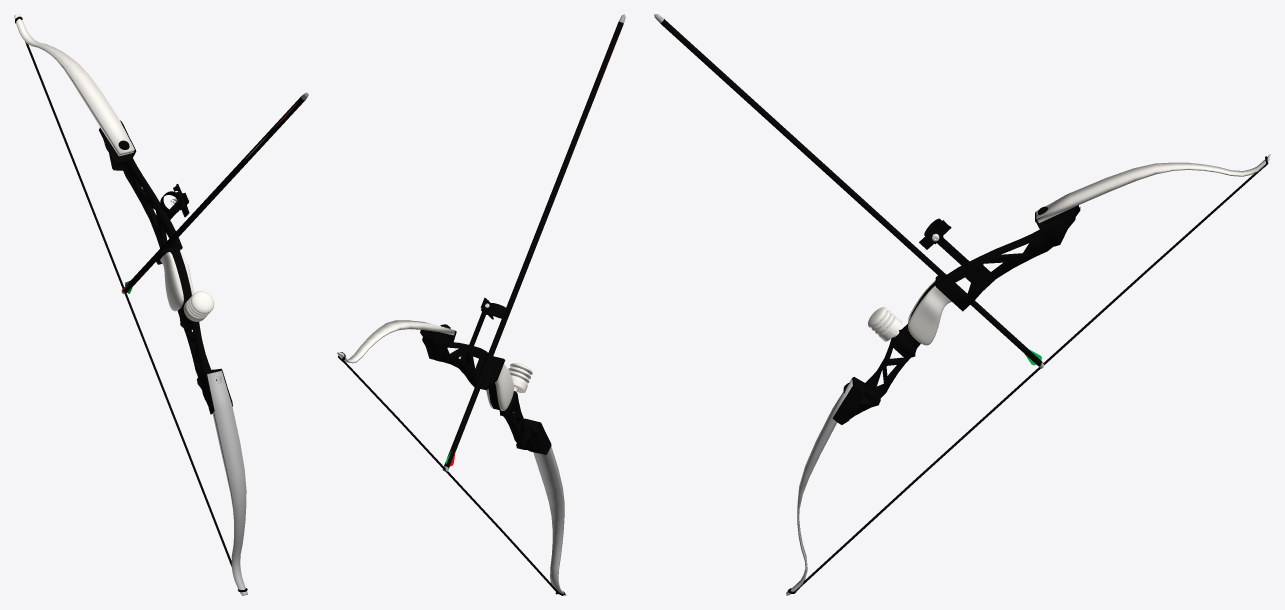
Rendered from modernRecurve-transformed.glb.
3 views of the same model, side by side, from view 1: azimuth 30°, elevation 25°; view 2: azimuth 150°, elevation 25°; view 3: azimuth 270°, elevation 25° (orthographic). The views are drawn at different scales.
Visible parts, largest first — view 1: modernBow; view 2: modernBow; view 3: modernBow.
Part boxes in pixels (x1=…): modernBow: x1=14, y1=14, x2=308, y2=595; modernBow: x1=337, y1=14, x2=625, y2=595; modernBow: x1=654, y1=14, x2=1270, y2=595.
Size of the model in its own units: 0.4827 by 9.68 by 9.31.
1 material, 1 textured.
